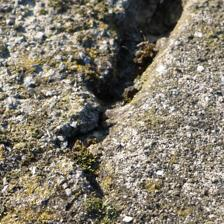Crack: (69, 2, 191, 139)
